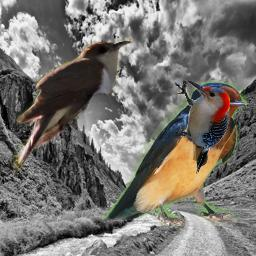Cuckoo: (13, 38, 133, 180)
Swallow: (102, 81, 247, 226)
Woodpecker: (175, 80, 230, 174)
